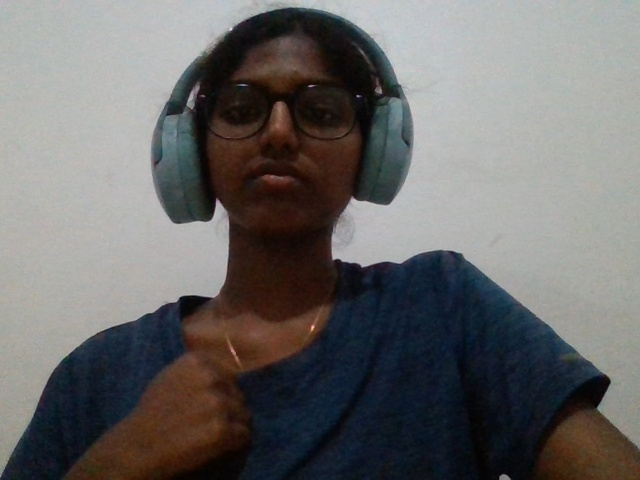Sorry: (74, 333, 261, 480)
